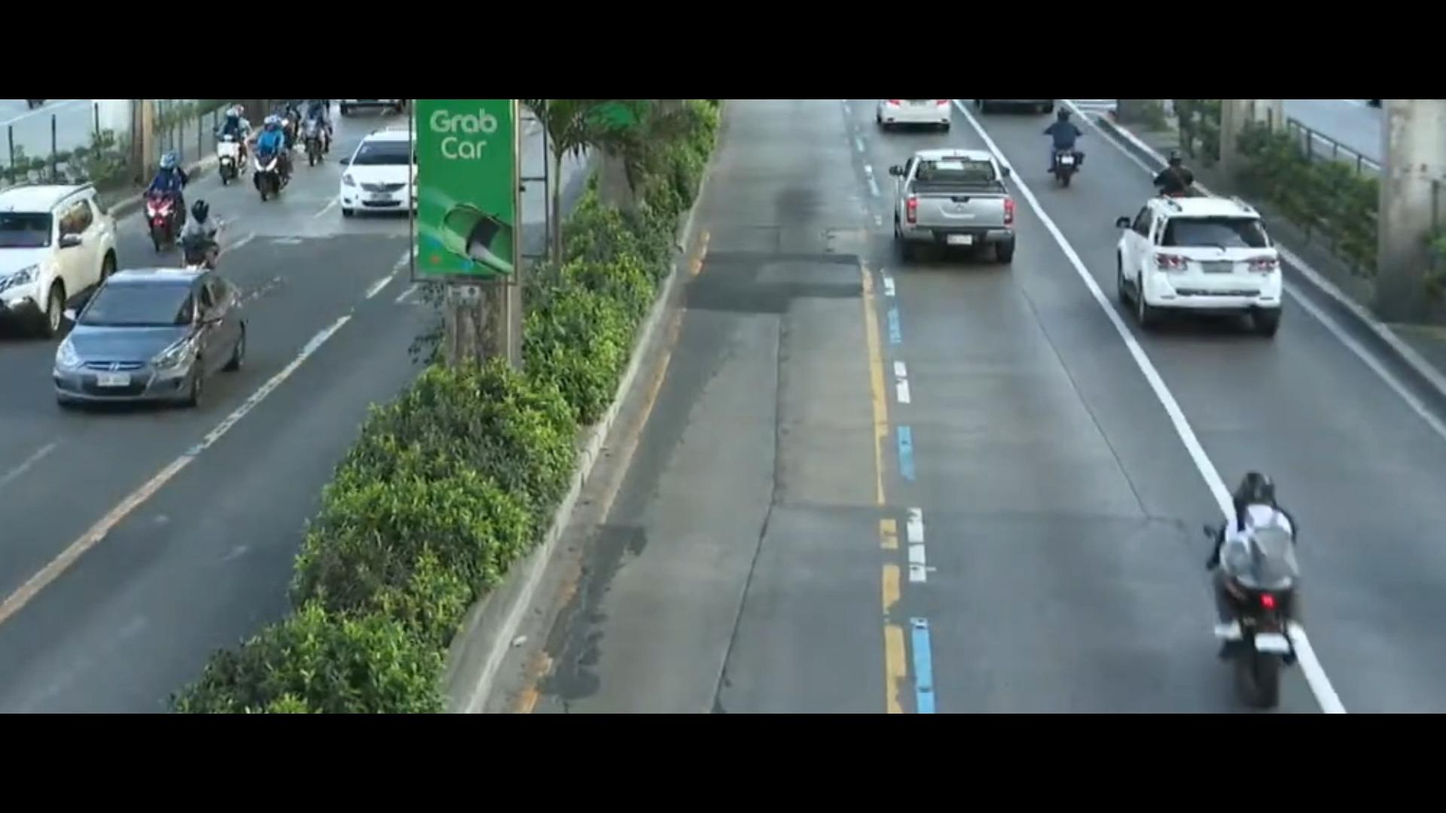Motorcycle: (1160, 465, 1336, 721), (236, 83, 307, 204), (117, 144, 196, 246), (1031, 103, 1103, 204), (173, 199, 249, 274), (204, 98, 259, 196), (284, 86, 344, 165)
Pickup: (877, 133, 1025, 288)
SUV: (1106, 181, 1308, 364), (0, 164, 131, 356)
Sedan: (47, 261, 259, 414), (312, 125, 419, 224)
